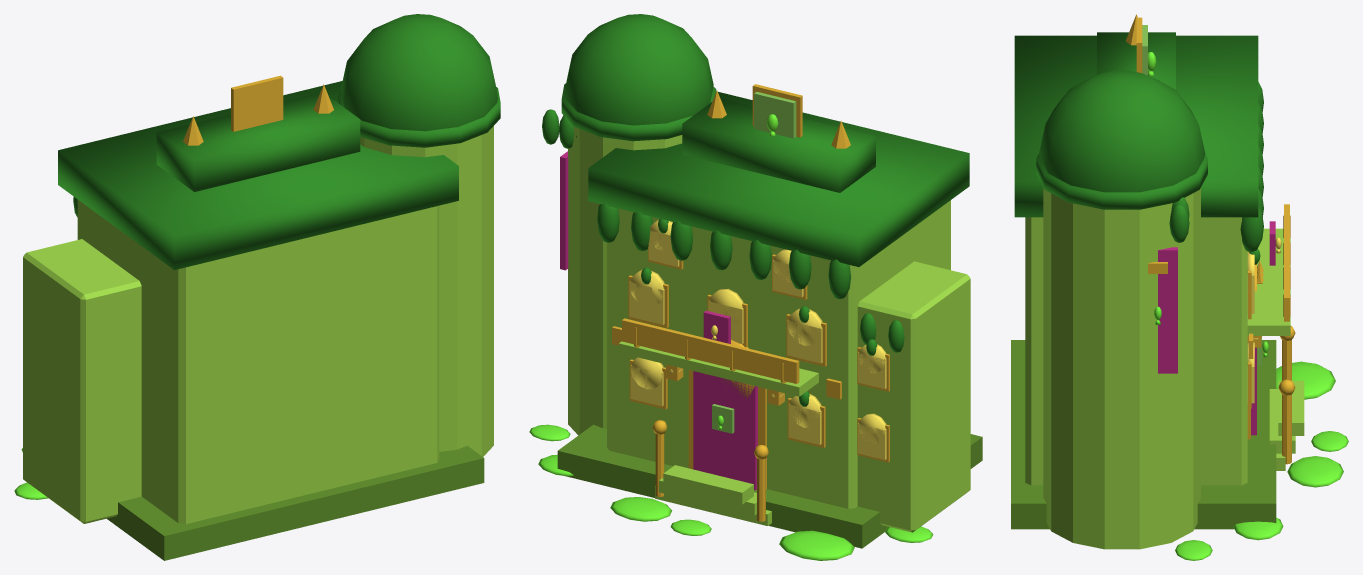
The model's file is SlimeHouse_UpgradeMax.obj.
The picture shows the model from 3 angles, left to right: view 1: azimuth 30°, elevation 25°; view 2: azimuth 150°, elevation 25°; view 3: azimuth 270°, elevation 25°; orthographic projection. The views are drawn at different scales.
Parts seen in each view (by area): view 1: SlimeHouse_UpgradeMax; view 2: SlimeHouse_UpgradeMax; view 3: SlimeHouse_UpgradeMax.
Boxes of the visible parts, left/top/right/bottom form: SlimeHouse_UpgradeMax: left=14, top=14, right=500, bottom=560; SlimeHouse_UpgradeMax: left=529, top=14, right=982, bottom=560; SlimeHouse_UpgradeMax: left=1011, top=14, right=1348, bottom=560.
Bounding box in the file's own units: 3.66 × 3.45 × 2.36.
